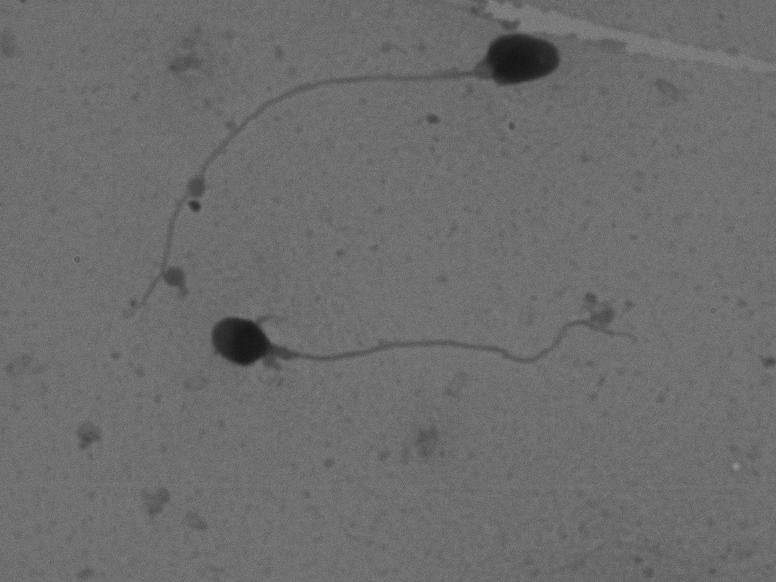Abnormal: (125, 11, 591, 250), (182, 265, 664, 422)
